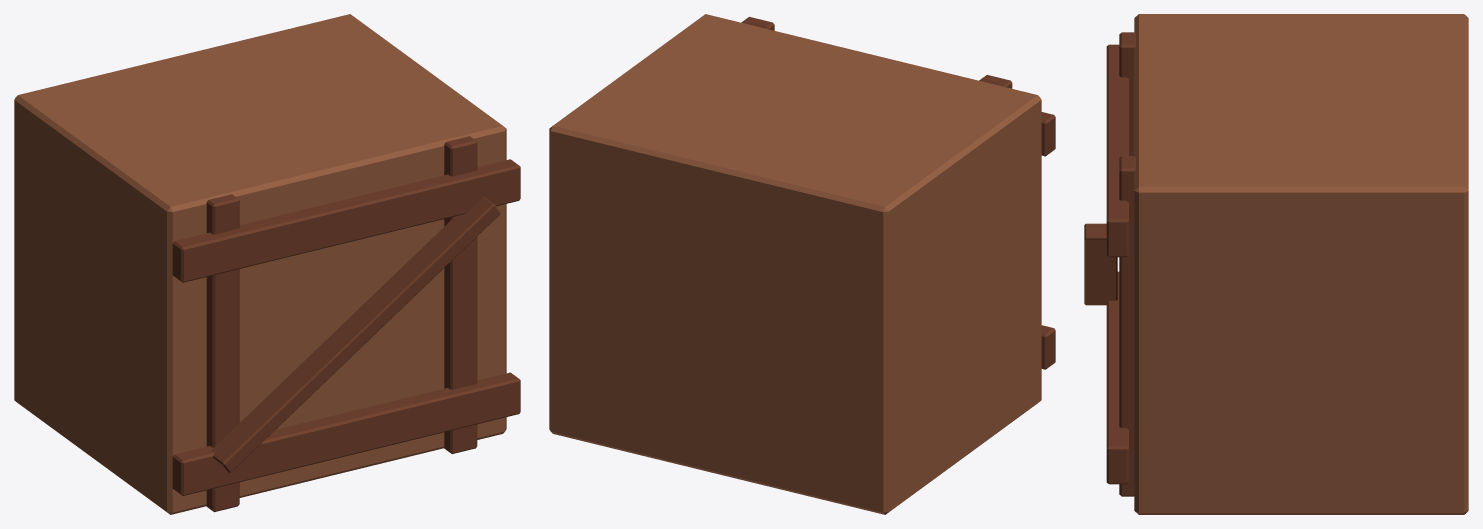
File: maintenance_crate.glb
3 renders of one model, left to right at view 1: azimuth 30°, elevation 25°; view 2: azimuth 150°, elevation 25°; view 3: azimuth 270°, elevation 25°, orthographic. The views are drawn at different scales.
Parts seen in each view (by area): view 1: Box, Cross_001, Cross, Diagonal, Strap, Strap_001; view 2: Box, Cross, Cross_001; view 3: Box, Strap_001, Cross_001, Cross, Diagonal, Strap.
Part boxes in pixels (x1,y1,x2,y2): Box: (14,14,506,514); Cross_001: (172,159,520,282); Cross: (172,372,520,495); Diagonal: (211,197,500,472); Strap: (206,194,239,512); Strap_001: (444,136,477,453); Box: (549,14,1041,514); Cross: (1041,325,1055,369); Cross_001: (1041,112,1055,156); Box: (1134,14,1468,514); Strap_001: (1119,156,1135,496); Cross_001: (1106,44,1128,257); Cross: (1106,271,1128,484); Diagonal: (1084,223,1117,305); Strap: (1119,32,1135,155).
Size of the model in its own units: 0.75 by 0.65 by 0.69.
